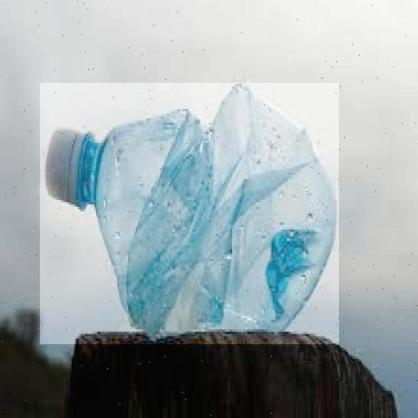bottle: (40, 83, 339, 344)
cap: (45, 124, 92, 210)
